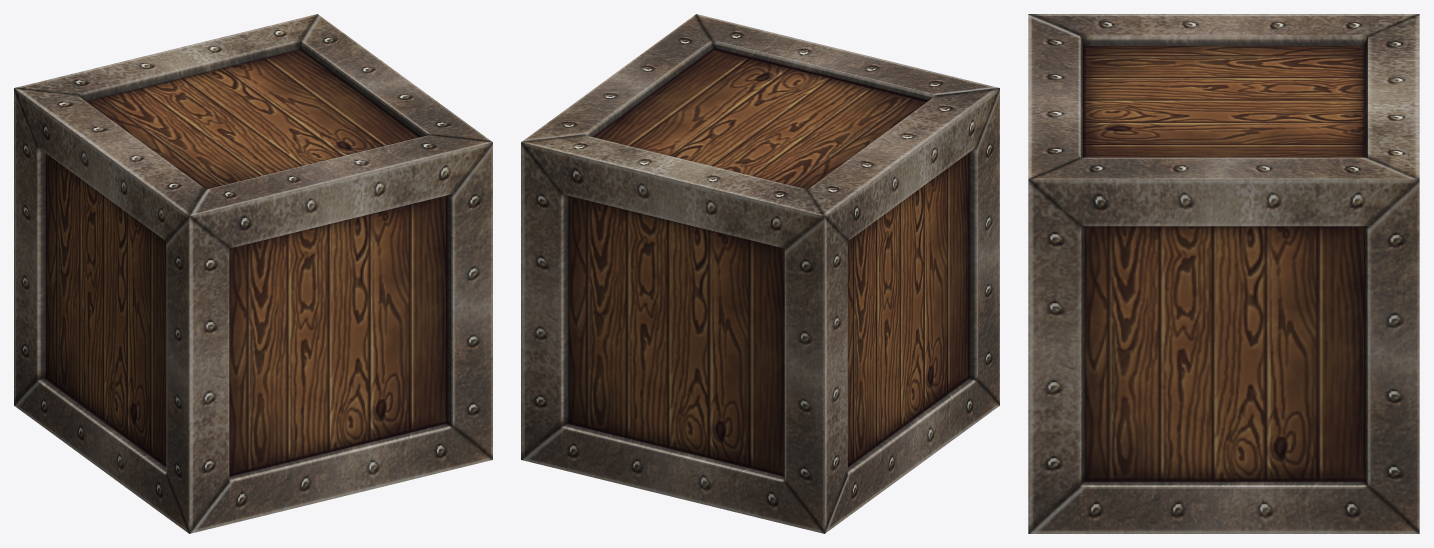
File: crate_metal.fbx
3 views of the same model, side by side, from view 1: azimuth 30°, elevation 25°; view 2: azimuth 150°, elevation 25°; view 3: azimuth 270°, elevation 25° (orthographic). The views are drawn at different scales.
Parts seen in each view (by area): view 1: crate_metal; view 2: crate_metal; view 3: crate_metal.
Part boxes in pixels (box(x1,y1,x2,y2)): crate_metal: box(14, 14, 492, 533); crate_metal: box(521, 14, 999, 533); crate_metal: box(1028, 14, 1419, 533).
Size of the model in its own units: 3.03 by 3.03 by 3.03.
